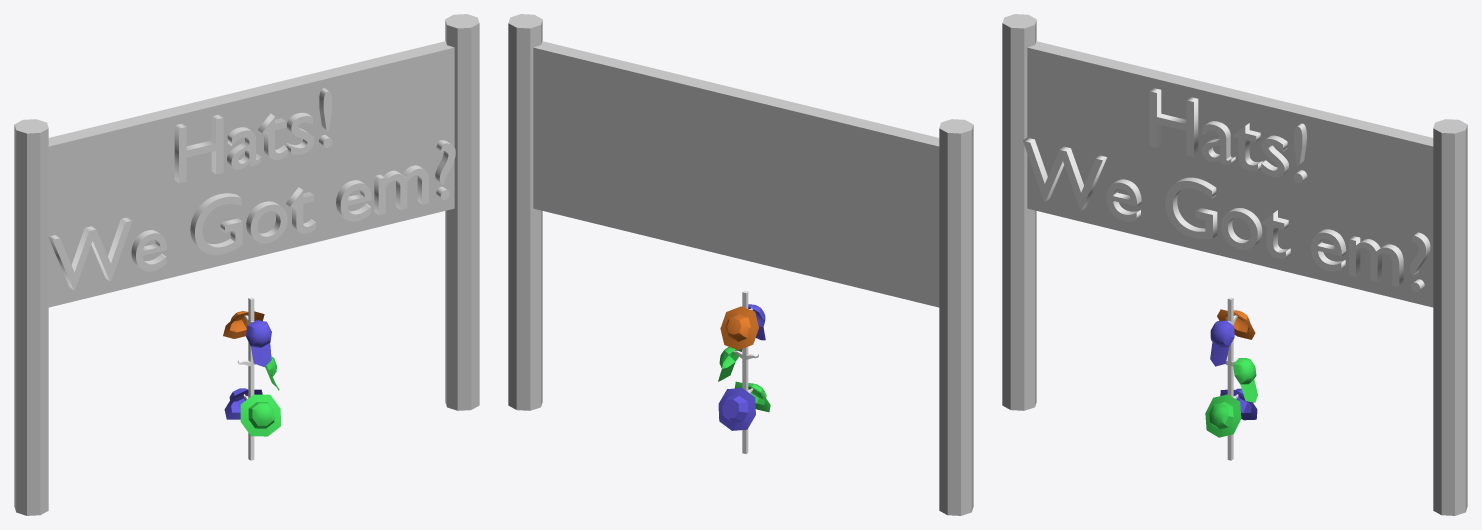
File: HatStore.glb
3 renders of one model, left to right at view 1: azimuth 30°, elevation 25°; view 2: azimuth 150°, elevation 25°; view 3: azimuth 330°, elevation 25°, orthographic.
Visible parts, largest first — view 1: HatSign, HatRack; view 2: HatSign, HatRack; view 3: HatSign, HatRack.
Boxes of the visible parts, bbox=[...] form: HatSign: bbox=[14, 14, 479, 515]; HatRack: bbox=[223, 297, 280, 460]; HatSign: bbox=[508, 14, 973, 515]; HatRack: bbox=[718, 290, 770, 453]; HatSign: bbox=[1002, 14, 1467, 515]; HatRack: bbox=[1205, 297, 1257, 460].
Size of the model in its own units: 6 by 4.75 by 0.6957.
